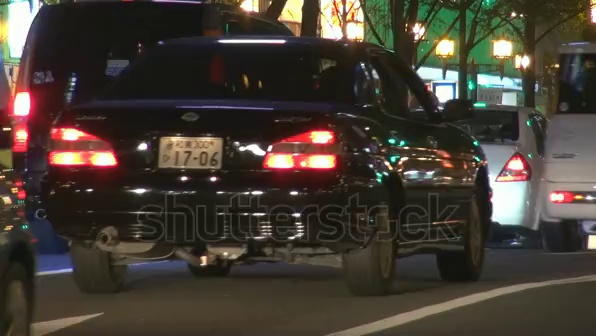licenseplate: (154, 134, 230, 172)
